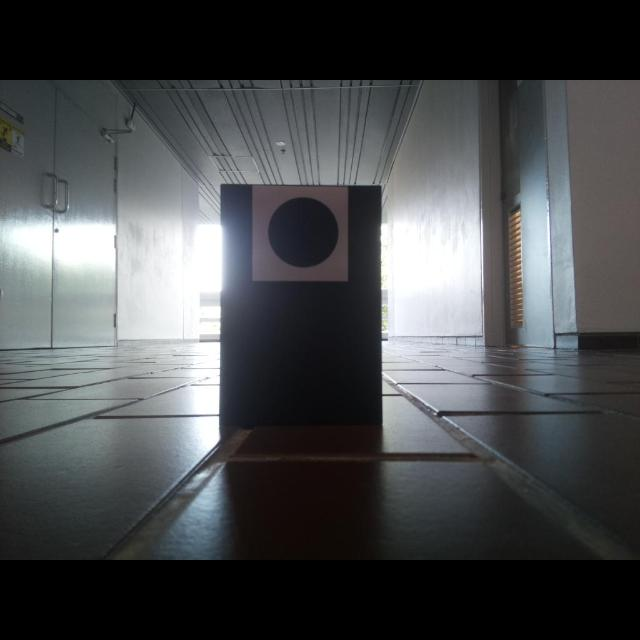CIRCLE: (266, 194, 341, 269)
